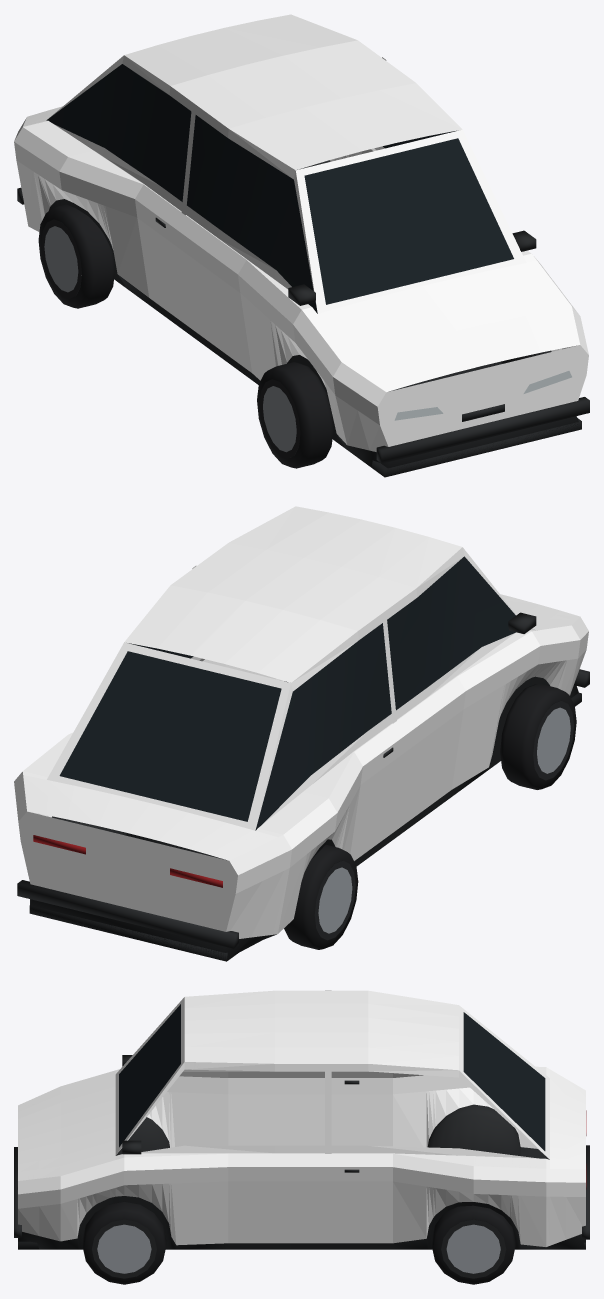
Rendered from mizuchi_arco.glb.
3 renders of one model, top to bottom at view 1: azimuth 30°, elevation 25°; view 2: azimuth 150°, elevation 25°; view 3: azimuth 270°, elevation 25°, orthographic. The views are drawn at different scales.
Parts seen in each view (by area): view 1: Body_Paint, Body_Details, Mount_FrontLeft_Wheel_Details, Mount_RearLeft_Wheel_Details; view 2: Body_Paint, Body_Details, Mount_FrontLeft_Wheel_Details, Mount_RearLeft_Wheel_Details; view 3: Body_Paint, Body_Details, Mount_FrontRight_Wheel_Details, Mount_RearRight_Wheel_Details.
Part boxes in pixels (x1,y1,x2,y2): Body_Paint: (14, 14, 588, 451); Body_Details: (17, 64, 589, 477); Mount_FrontLeft_Wheel_Details: (257, 362, 333, 468); Mount_RearLeft_Wheel_Details: (38, 204, 114, 308); Body_Paint: (14, 506, 588, 938); Body_Details: (17, 556, 589, 961); Mount_FrontLeft_Wheel_Details: (500, 683, 576, 789); Mount_RearLeft_Wheel_Details: (284, 845, 358, 949); Body_Paint: (18, 990, 585, 1246); Body_Details: (14, 1004, 589, 1249); Mount_FrontRight_Wheel_Details: (82, 1201, 166, 1284); Mount_RearRight_Wheel_Details: (432, 1205, 515, 1284).
Size of the model in its own units: 1.75 by 1.57 by 3.92.
Materials: 2 (1 with a texture image).
